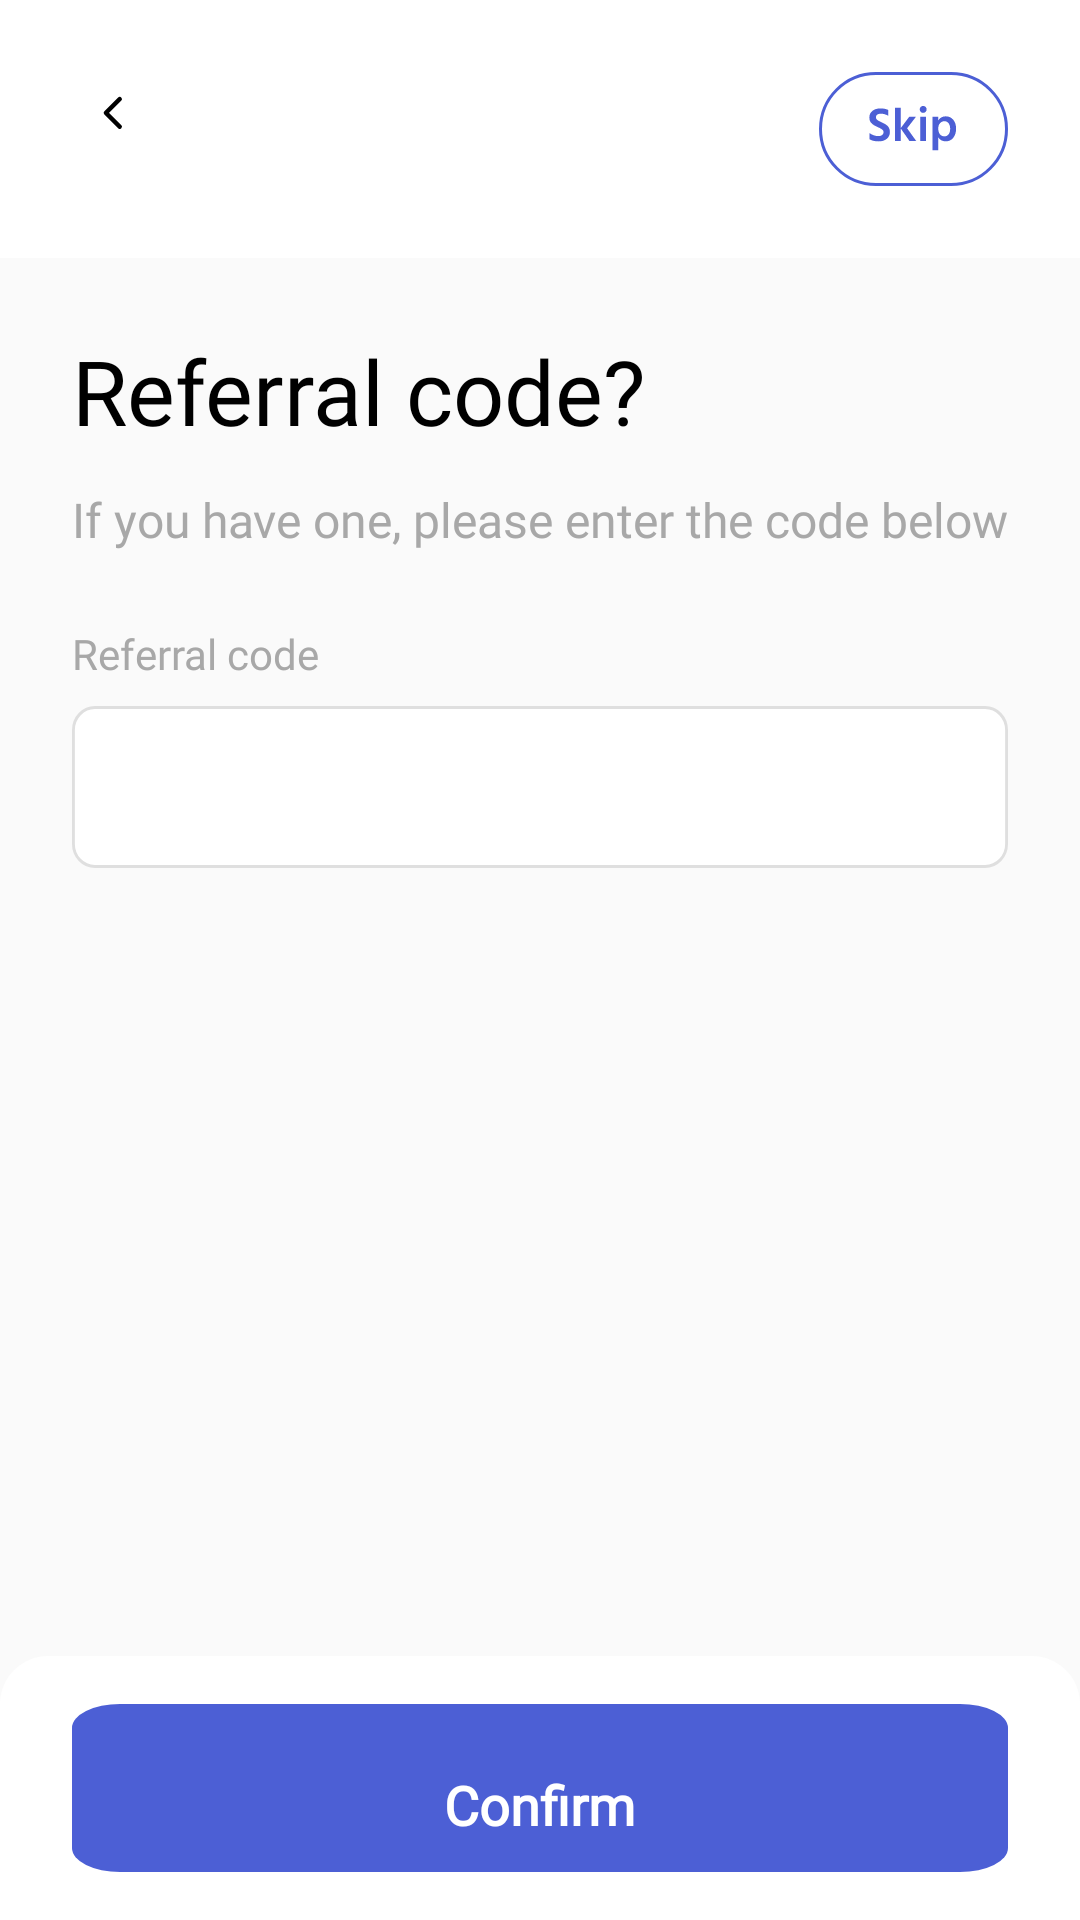

Icon bounding boxes for this 1080×1920 phone screenshot, format (x1, y1, x2, y2):
backicon: (103, 96, 122, 129)
